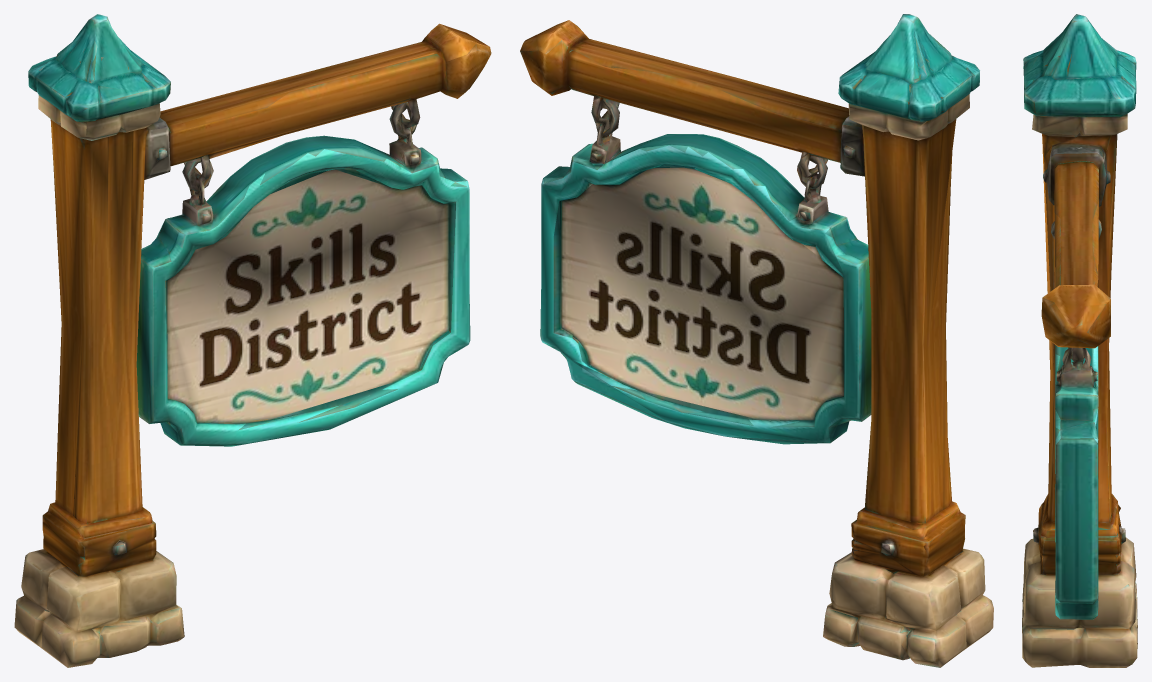
File: sign-skills.glb
3 renders of one model, left to right at view 1: azimuth 30°, elevation 25°; view 2: azimuth 150°, elevation 25°; view 3: azimuth 270°, elevation 25°, orthographic.
Visible parts, largest first — view 1: Mesh1.0; view 2: Mesh1.0; view 3: Mesh1.0.
Boxes of the visible parts, <box> form: Mesh1.0: <box>14,14,491,667</box>; Mesh1.0: <box>520,14,993,667</box>; Mesh1.0: <box>1022,14,1137,667</box>.
Bounding box in the file's own units: 1.44 × 1.9 × 0.3196.
Materials: 1 (1 with a texture image).
